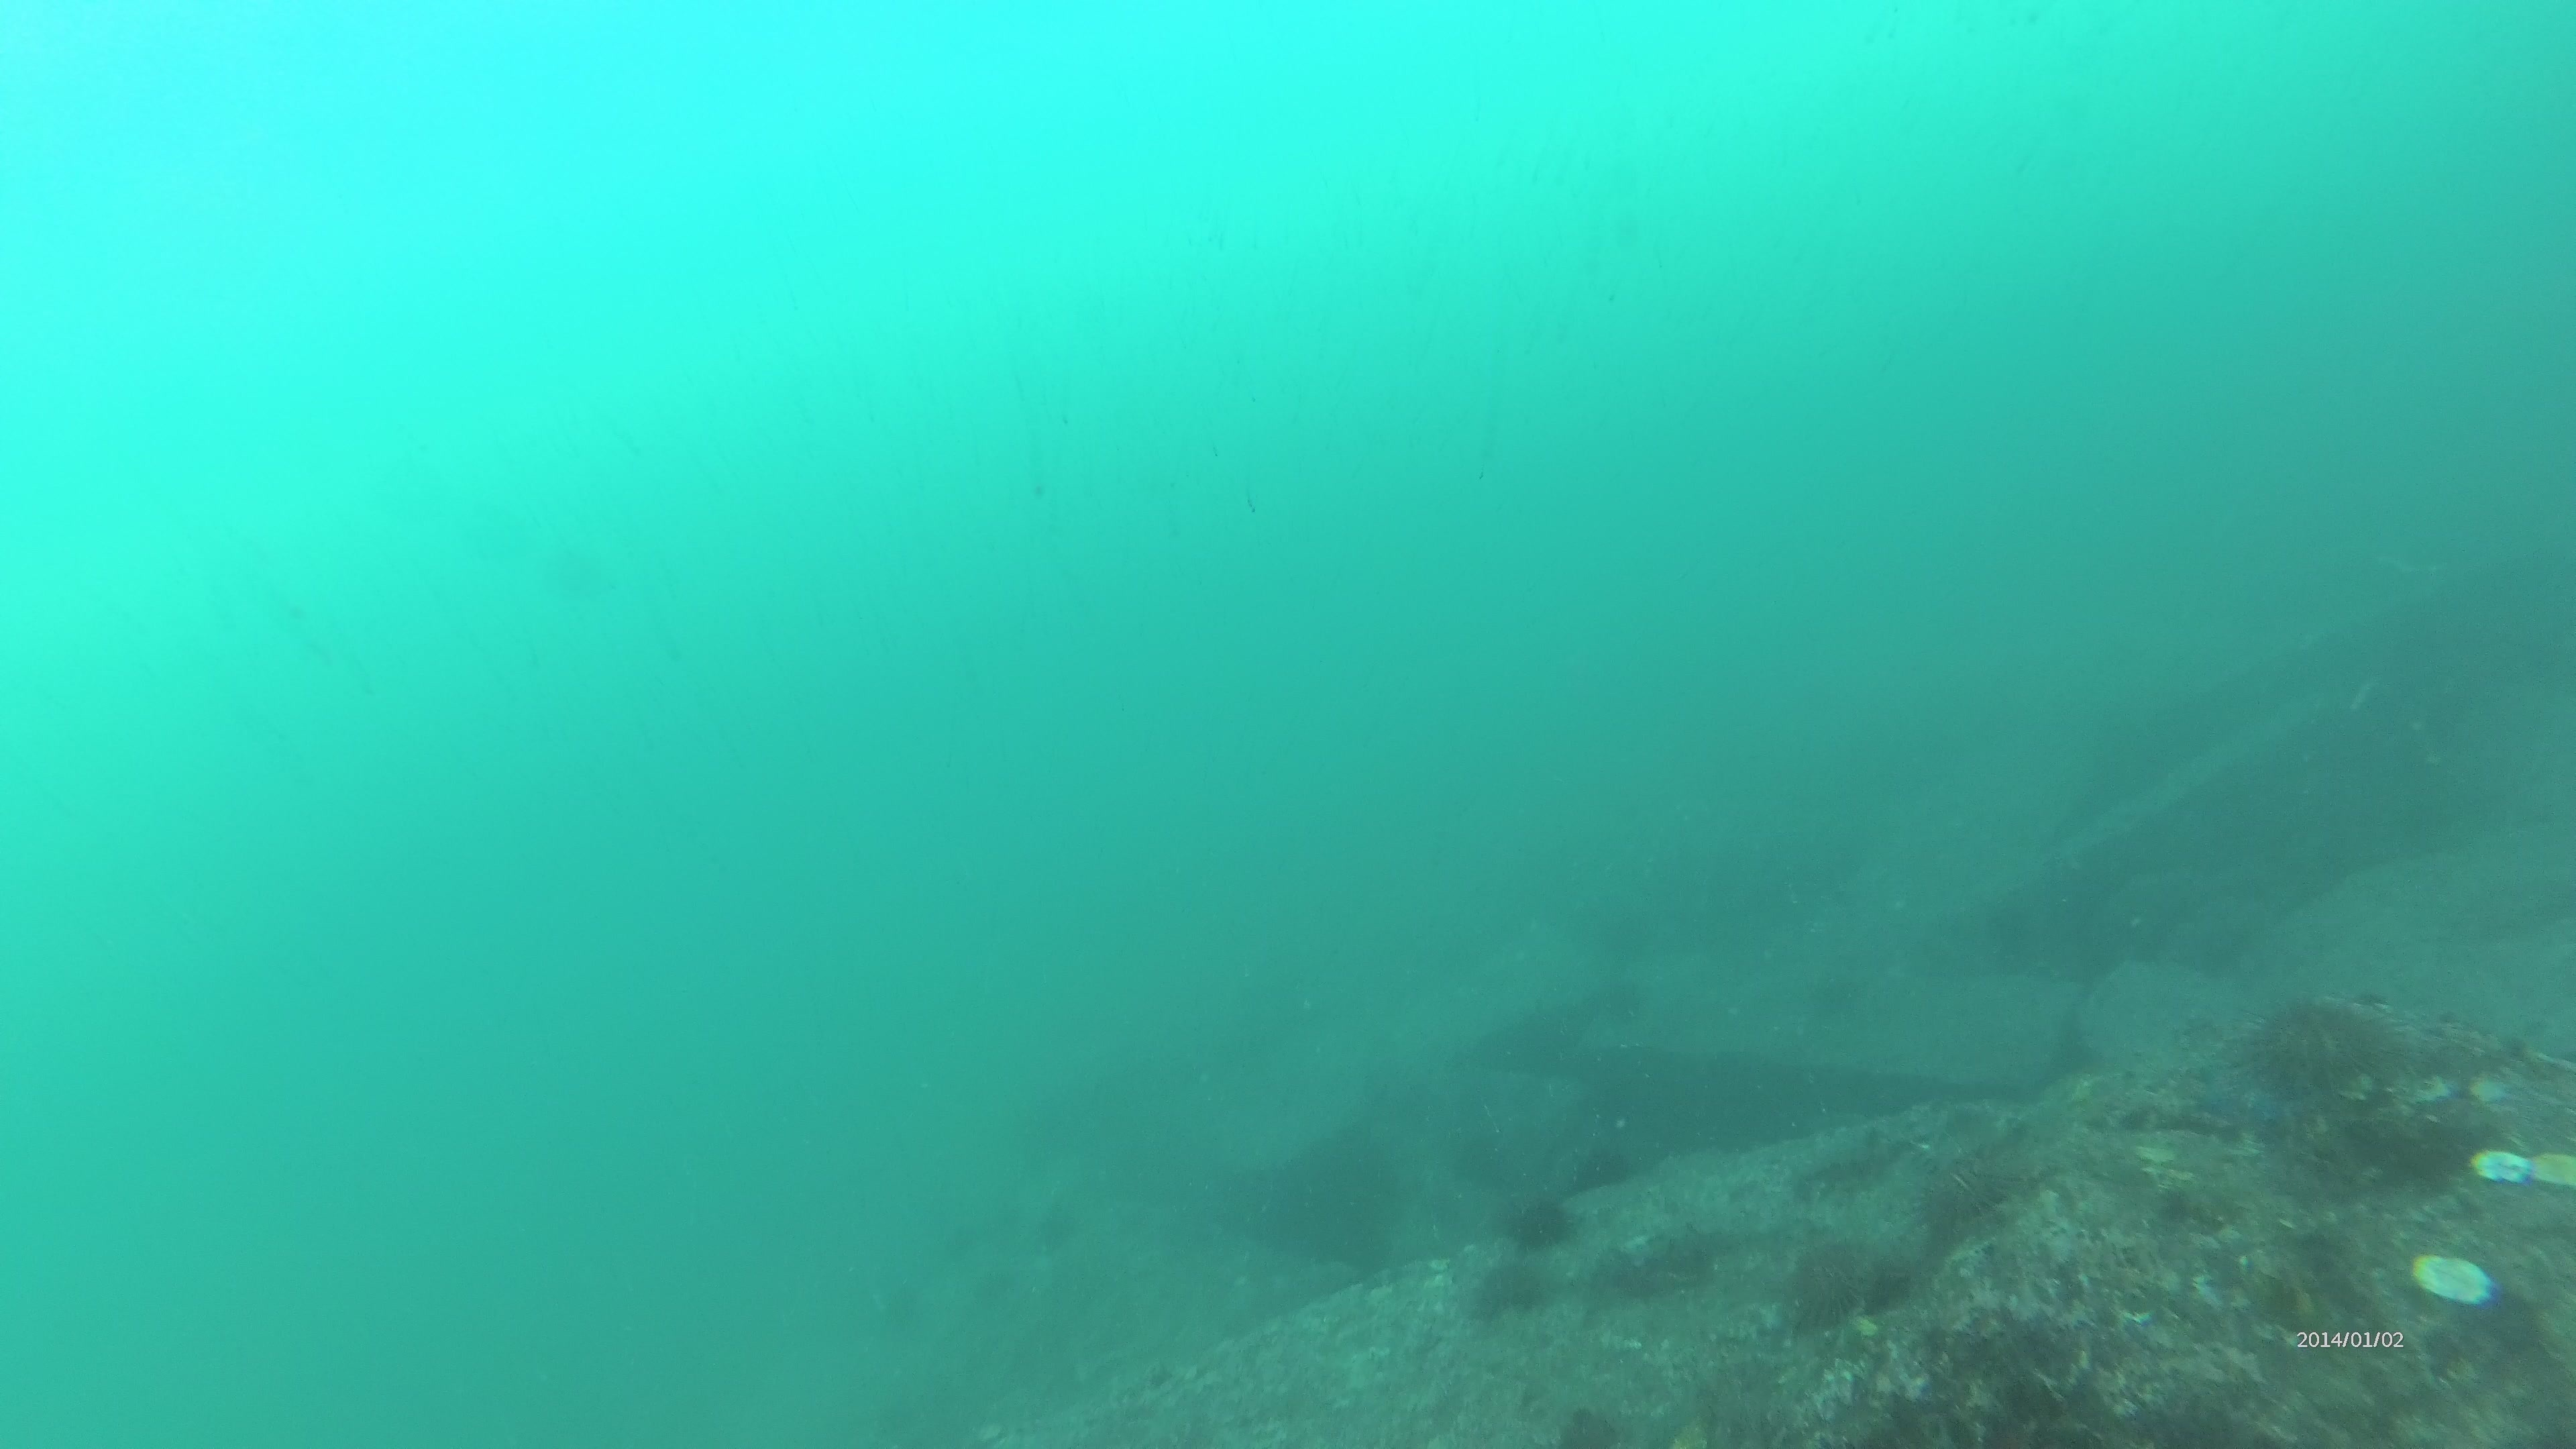echinus: (2235, 987, 2394, 1109), (1776, 1231, 1907, 1336), (1914, 1161, 2033, 1217), (1499, 1185, 1585, 1258), (1578, 1146, 1638, 1189), (1812, 978, 1856, 1016), (1596, 980, 1642, 1016)
